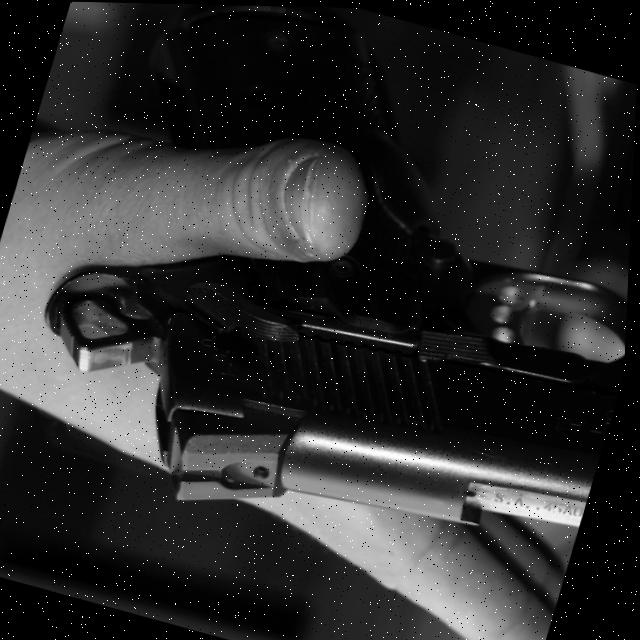pistol: (0, 0, 640, 607)
